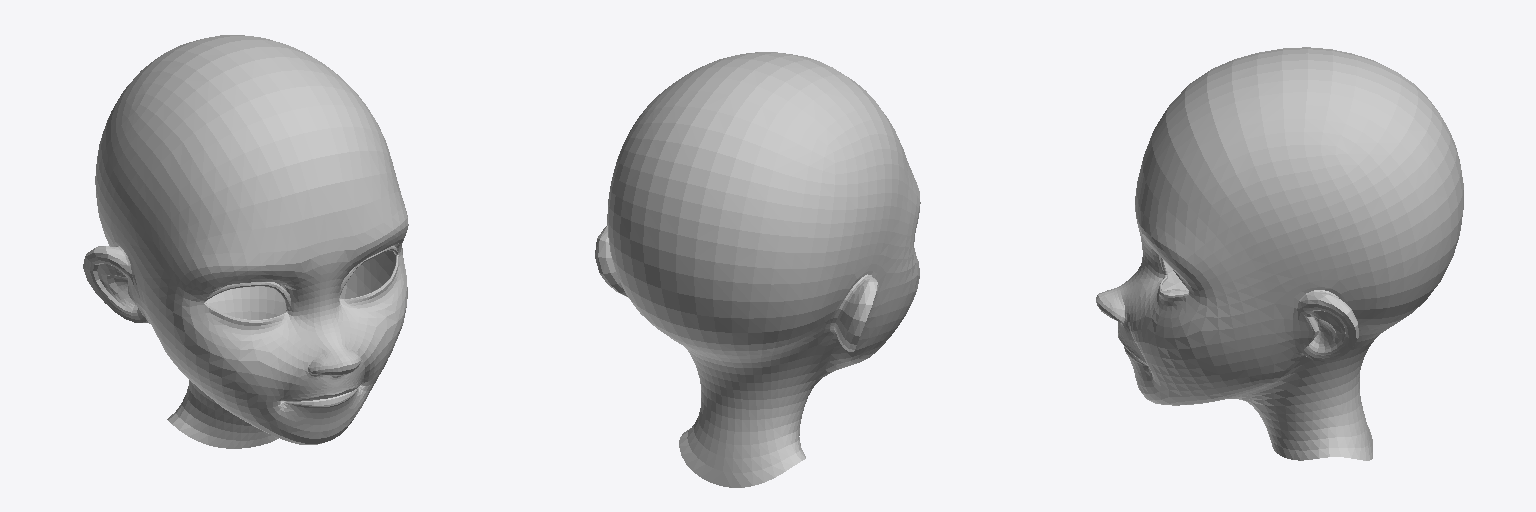
The model's file is pos13.obj.
3 renders of one model, left to right at view 1: azimuth 30°, elevation 25°; view 2: azimuth 150°, elevation 25°; view 3: azimuth 270°, elevation 25°, orthographic.
Parts seen in each view (by area): view 1: Mesh; view 2: Mesh; view 3: Mesh.
Part boxes in pixels (left/top/right/bottom): Mesh: left=83, top=35, right=408, bottom=448; Mesh: left=595, top=52, right=920, bottom=487; Mesh: left=1096, top=47, right=1463, bottom=460.
Size of the model in its own units: 23.75 by 32.31 by 27.53.